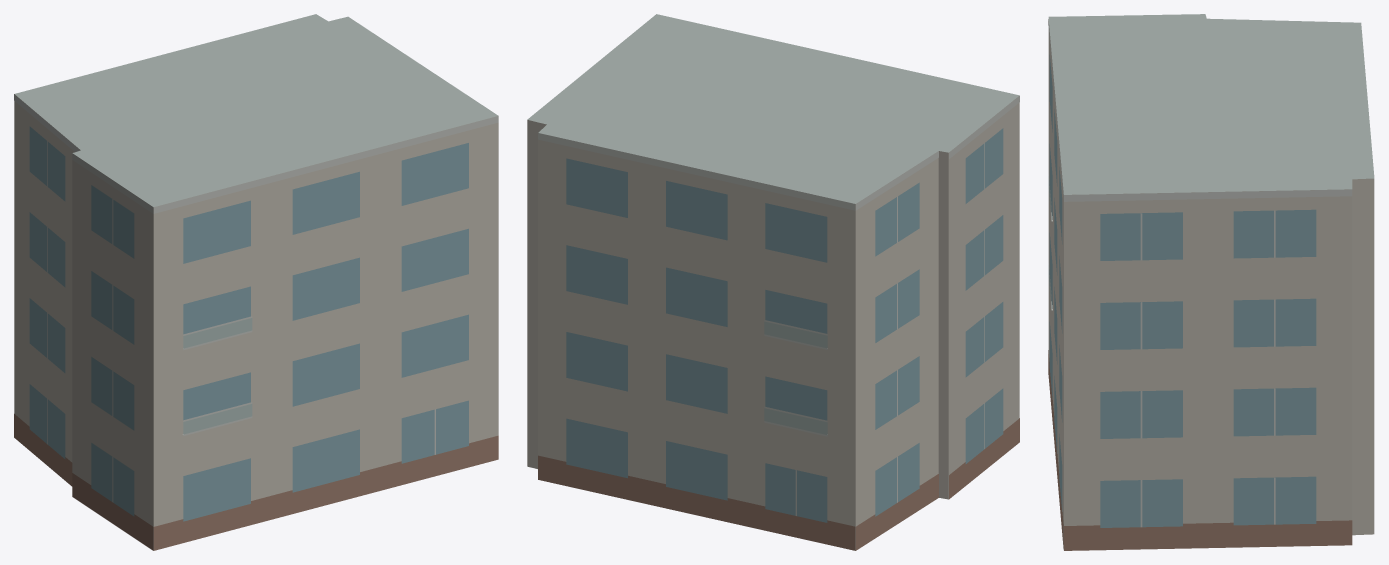
Rendered from survey-upis-32894951.glb.
The picture shows the model from 3 angles, left to right: view 1: azimuth 30°, elevation 25°; view 2: azimuth 150°, elevation 25°; view 3: azimuth 270°, elevation 25°; orthographic projection. The views are drawn at different scales.
Parts seen in each view (by area): view 1: survey-upis-32894951.tmp; view 2: survey-upis-32894951.tmp; view 3: survey-upis-32894951.tmp.
Part boxes in pixels (box(x1,y1,x2,y2)): survey-upis-32894951.tmp: box(14, 14, 498, 550); survey-upis-32894951.tmp: box(527, 14, 1019, 550); survey-upis-32894951.tmp: box(1048, 14, 1374, 550).
Size of the model in its own units: 13.64 by 12.5 by 10.39.
